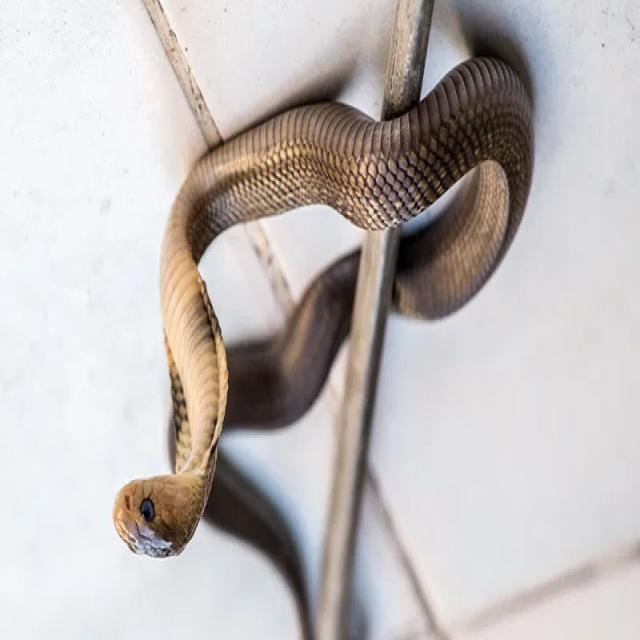Venomous: (101, 237, 235, 563)
